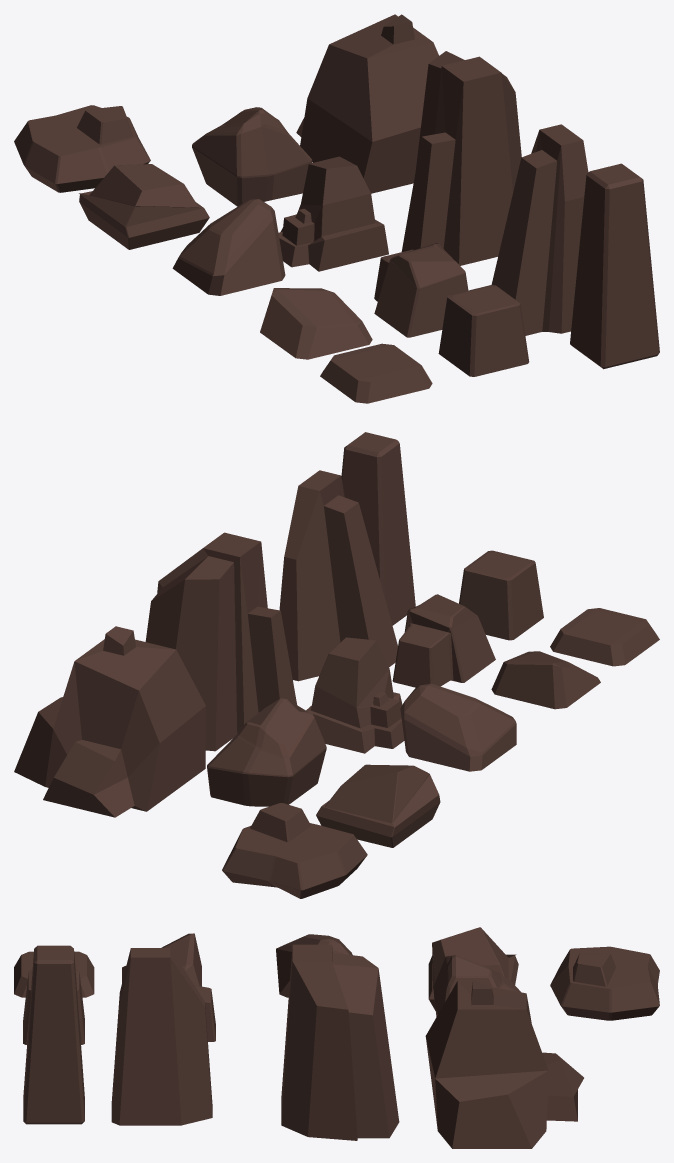
File: Rockset.fbx
The picture shows the model from 3 angles, top to bottom: view 1: azimuth 30°, elevation 25°; view 2: azimuth 150°, elevation 25°; view 3: azimuth 270°, elevation 25°; orthographic projection. The views are drawn at different scales.
Parts seen in each view (by area): view 1: RockTall_03, RockTall_04, RockTall_01, RockTall_02, Rock_03, RockSmall_05, Rock_04, RockSmall_04, RockSmall_03, Rock_01, Rock_02, RockSmall_02 (+1 smaller); view 2: RockTall_04, RockTall_03, RockTall_02, Rock_04, RockSmall_05, Rock_03, RockTall_01, RockSmall_03, RockSmall_04, Rock_02, Rock_01, RockSmall_01 (+1 smaller); view 3: RockTall_03, RockTall_04, RockTall_02, RockTall_01, RockSmall_05, RockSmall_04, Rock_04, RockSmall_01, RockSmall_03, RockSmall_02, Rock_01, Rock_02.
Part boxes in pixels (x1,y1,x2,y2): RockTall_03: (401,51,521,265); RockTall_04: (296,14,438,193); RockTall_01: (570,163,659,369); RockTall_02: (491,124,588,335); Rock_03: (278,156,388,271); RockSmall_05: (14,105,150,192); Rock_04: (192,107,312,206); RockSmall_04: (79,164,209,249); RockSmall_03: (172,199,285,295); Rock_01: (438,285,529,376); Rock_02: (374,243,468,337); RockSmall_02: (260,288,372,359); RockTall_04: (14,626,205,817); RockTall_03: (145,532,296,751); RockTall_02: (279,470,397,681); Rock_04: (207,698,326,806); RockSmall_05: (222,803,367,898); Rock_03: (306,637,404,753); RockTall_01: (341,432,415,625); RockSmall_03: (400,683,516,771); RockSmall_04: (316,764,440,847); Rock_02: (392,594,495,687); Rock_01: (459,550,543,640); RockSmall_01: (550,608,659,666); RockTall_03: (281,944,399,1140); RockTall_04: (425,981,583,1148); RockTall_02: (111,948,212,1125); RockTall_01: (23,945,84,1124); RockSmall_05: (550,946,659,1020); RockSmall_04: (428,927,518,1010); Rock_04: (433,955,520,1016); RockSmall_01: (14,951,94,997); RockSmall_03: (276,934,352,997); RockSmall_02: (122,933,201,986); Rock_01: (23,969,84,1044); Rock_02: (194,985,215,1041).
Size of the model in its own units: 1285 by 569 by 2081.
